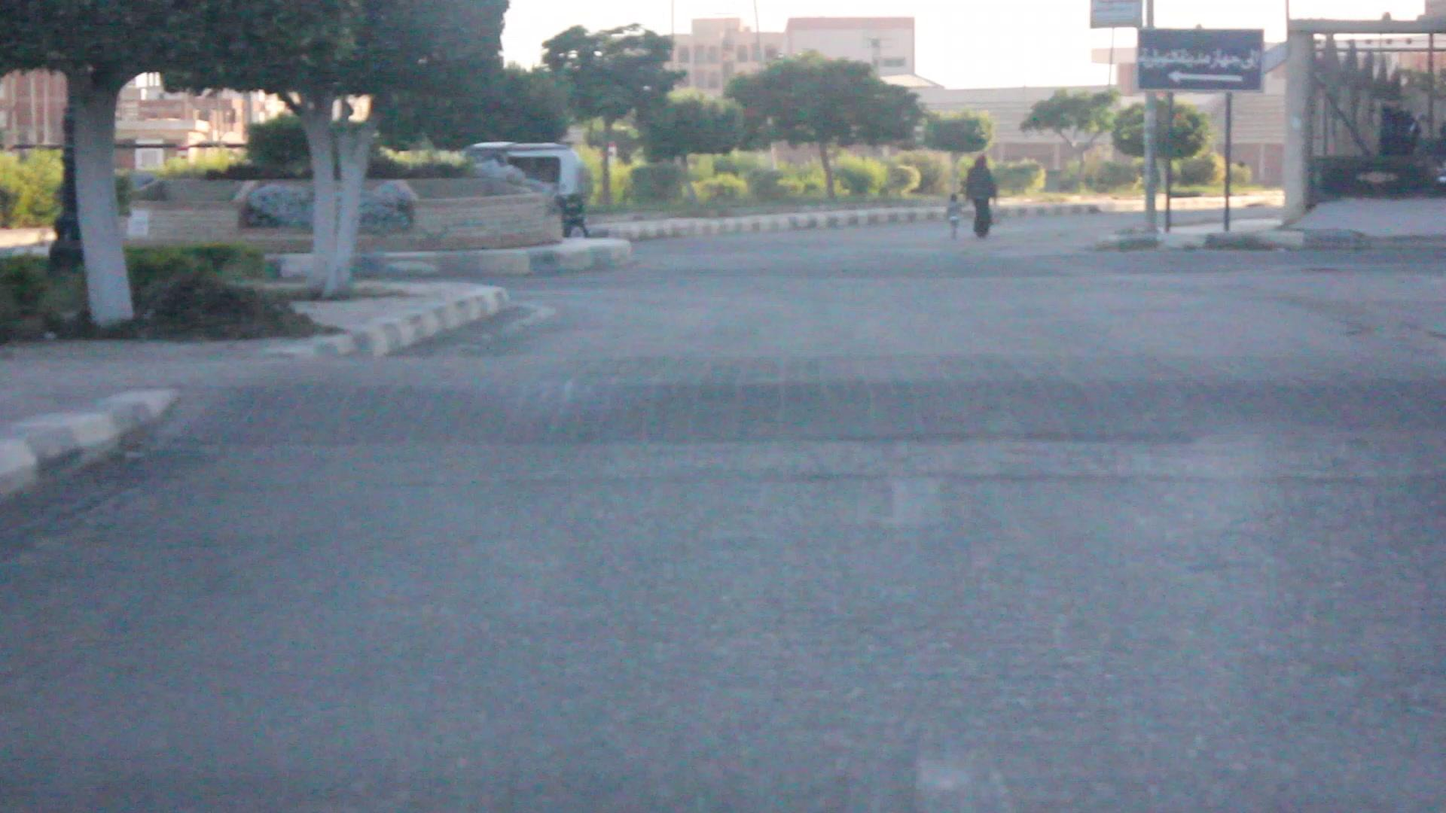Bump: (136, 347, 1445, 446)
